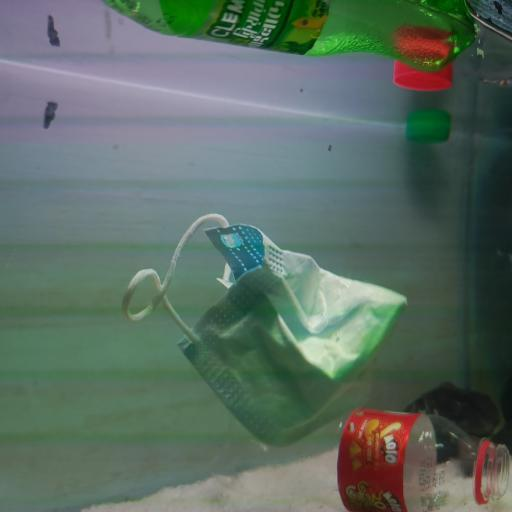bottle_cap: (392, 59, 454, 93), (402, 114, 452, 145)
mask: (122, 208, 411, 450)
plastic_bottle: (206, 405, 510, 512), (98, 0, 481, 75)
